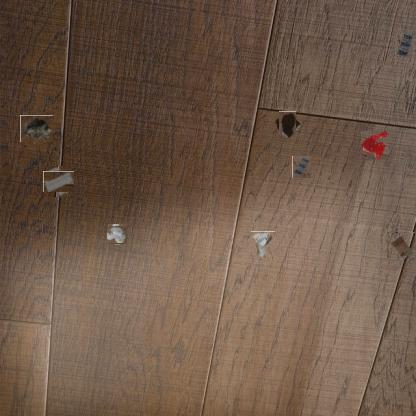dirty: (22, 114, 51, 144), (388, 232, 416, 258), (46, 168, 72, 194), (251, 231, 275, 258), (396, 31, 414, 57), (292, 156, 311, 178), (108, 225, 126, 244)
liquid: (361, 131, 390, 160), (276, 114, 299, 136)
